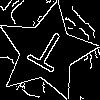T: (21, 27, 71, 81)
